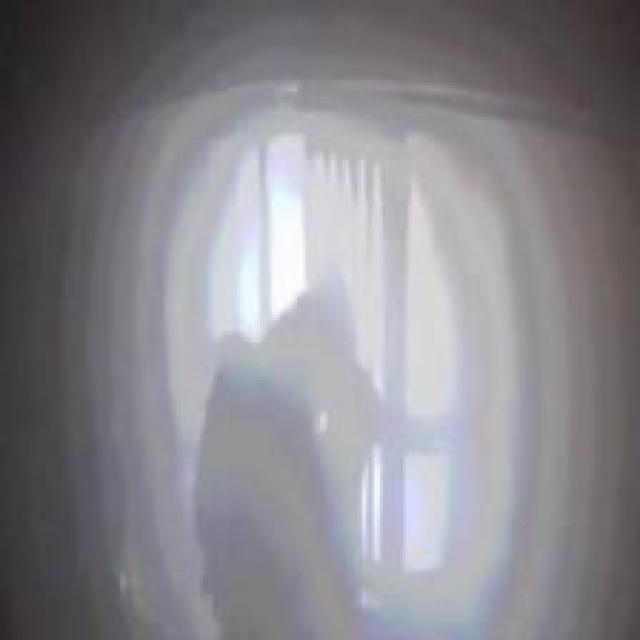fire: (56, 51, 573, 563)
